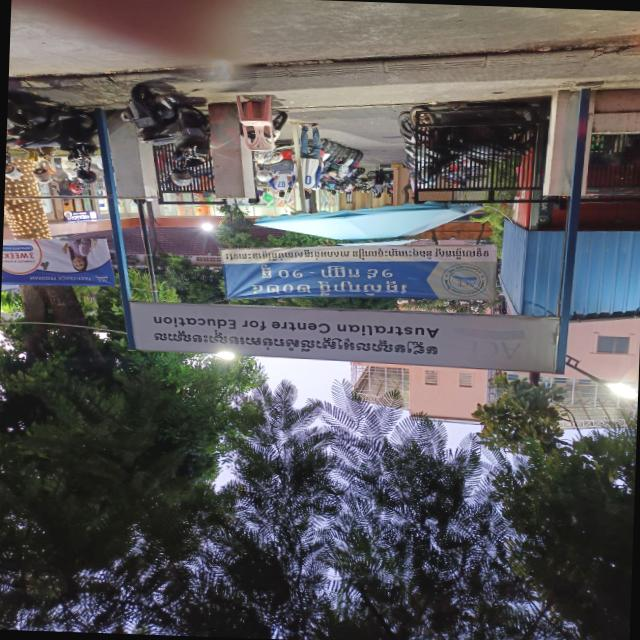1: (247, 280, 410, 298)
2: (220, 246, 490, 263)
3: (254, 263, 394, 280)
Yolov11kh: (150, 326, 441, 358)
